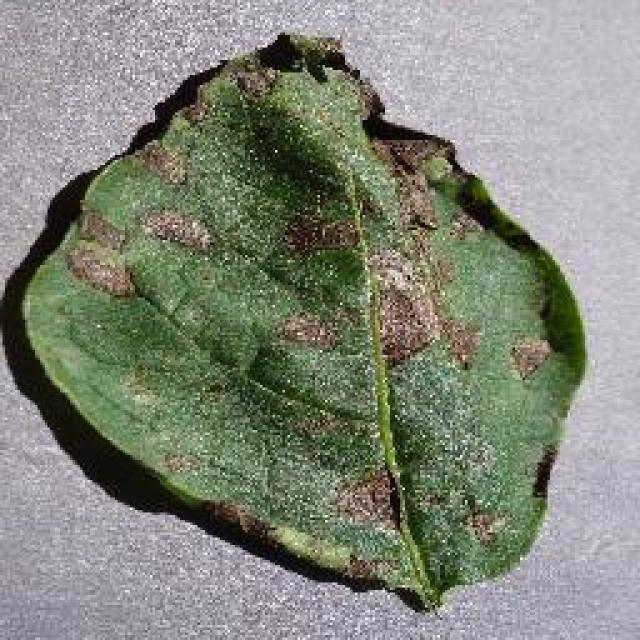early_blight: (12, 27, 592, 615)
